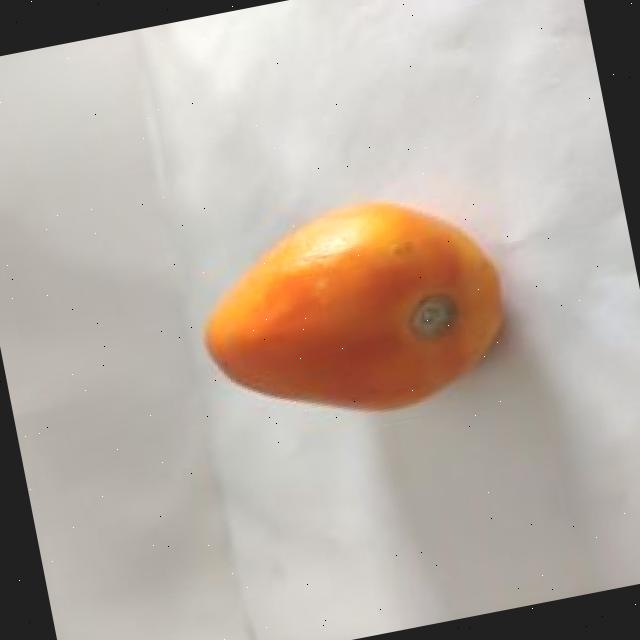Ripe: (182, 178, 520, 448)
